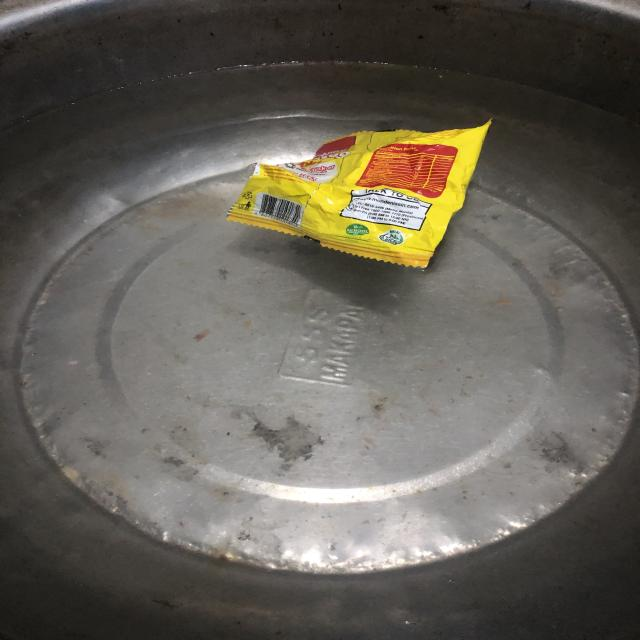Plastic Wrapper: (199, 100, 525, 289)
